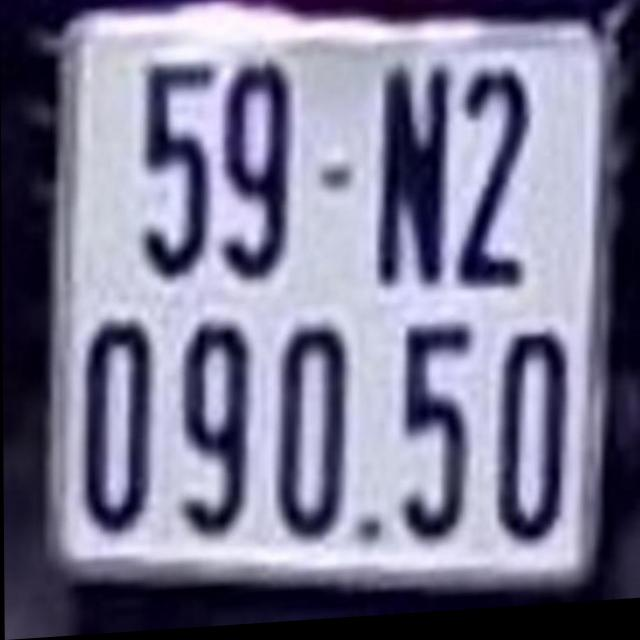0: (84, 316, 168, 550), (502, 329, 563, 545), (282, 319, 340, 545)
2: (461, 74, 522, 292)
5: (122, 70, 218, 284), (396, 326, 474, 550)
9: (173, 306, 244, 538), (218, 70, 287, 285)
N: (379, 77, 447, 297)
